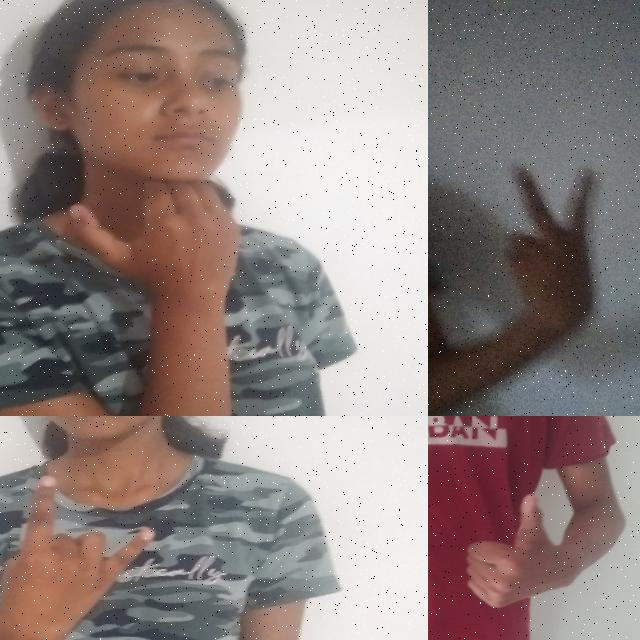Chin Flick: (9, 0, 282, 326)
Corna: (0, 466, 160, 640)
Reversed Victory: (486, 150, 620, 333)
Thumbs Up: (459, 486, 566, 618)
